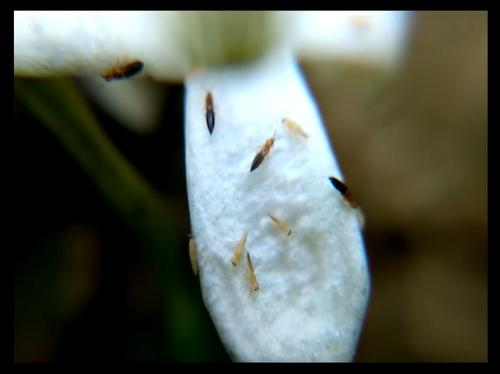Thripidae: (95, 54, 145, 87), (326, 173, 362, 213), (248, 130, 281, 173), (200, 81, 221, 139)
